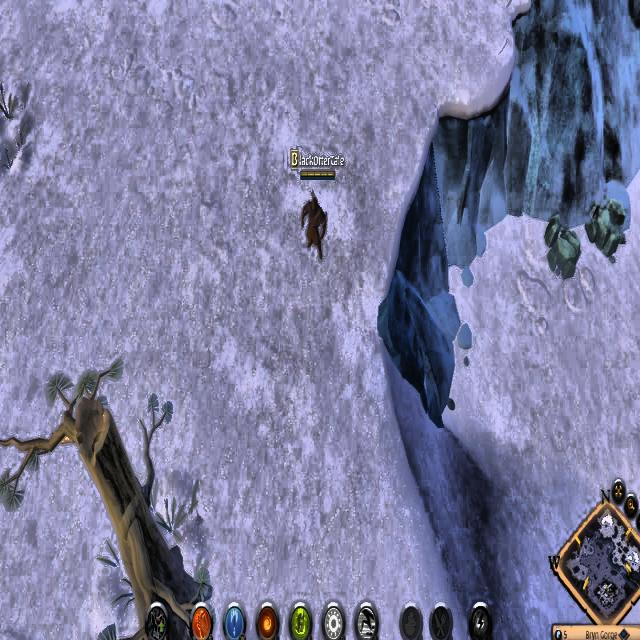sandstone: (584, 196, 628, 264), (541, 212, 581, 282)
